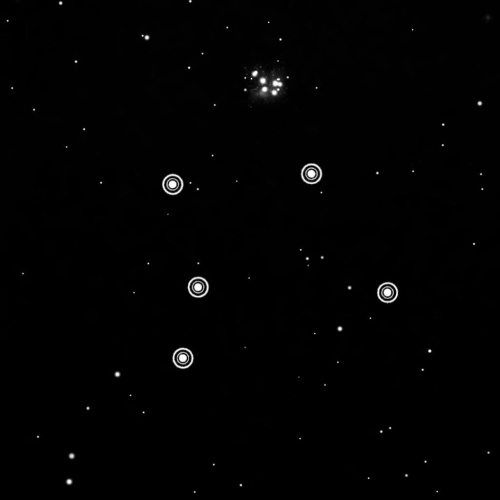libra: (150, 156, 404, 375)
